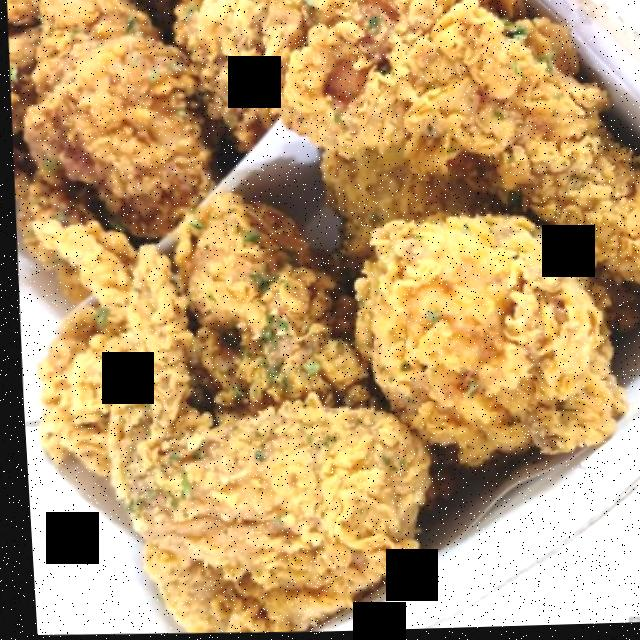Frango: (7, 0, 640, 634)
